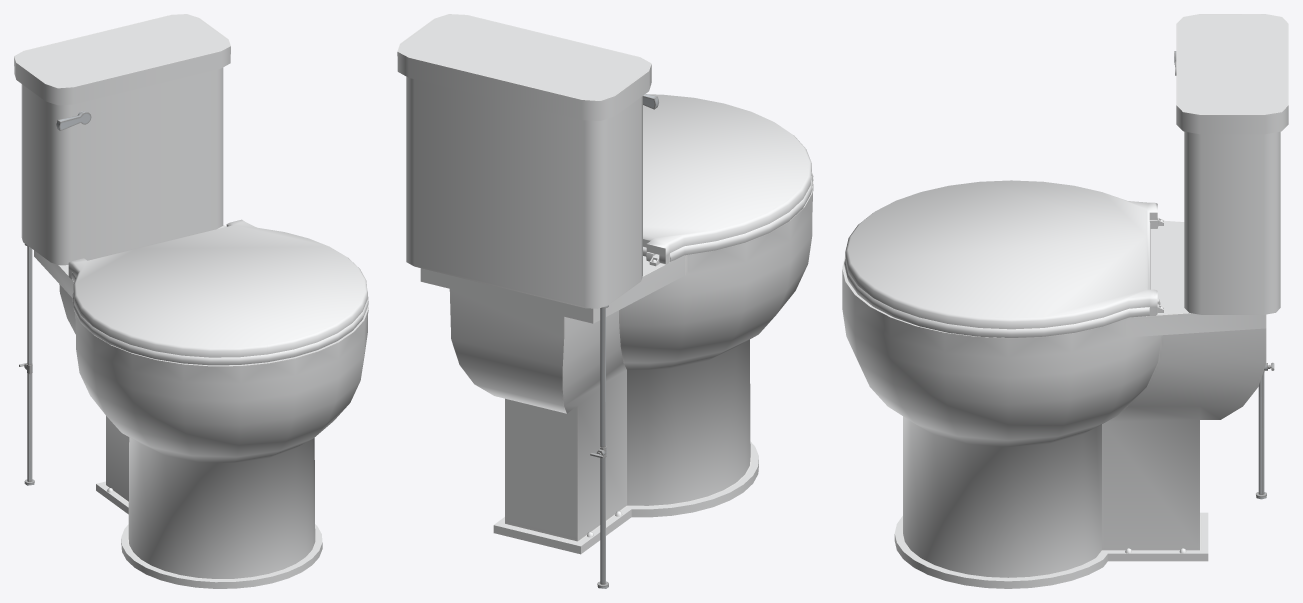
The model's file is prop-toilet.glb.
3 views of the same model, side by side, from view 1: azimuth 30°, elevation 25°; view 2: azimuth 150°, elevation 25°; view 3: azimuth 270°, elevation 25° (orthographic). The views are drawn at different scales.
Visible parts, largest first — view 1: Toilet_Round_A, Toilet_Round_A_Seat_Cover, Toilet_Round_A_Seat; view 2: Toilet_Round_A, Toilet_Round_A_Seat_Cover, Toilet_Round_A_Seat; view 3: Toilet_Round_A, Toilet_Round_A_Seat_Cover, Toilet_Round_A_Seat.
Boxes of the visible parts, x1=… form: Toilet_Round_A: x1=14, y1=14, x2=368, y2=588; Toilet_Round_A_Seat_Cover: x1=68, y1=219, x2=367, y2=357; Toilet_Round_A_Seat: x1=71, y1=272, x2=368, y2=365; Toilet_Round_A: x1=397, y1=14, x2=813, y2=588; Toilet_Round_A_Seat_Cover: x1=643, y1=94, x2=811, y2=264; Toilet_Round_A_Seat: x1=643, y1=172, x2=813, y2=266; Toilet_Round_A: x1=842, y1=14, x2=1288, y2=588; Toilet_Round_A_Seat_Cover: x1=845, y1=180, x2=1157, y2=329; Toilet_Round_A_Seat: x1=844, y1=217, x2=1163, y2=337.
Size of the model in its own units: 0.4225 by 0.6633 by 0.5634.
3 materials, 3 textured.
